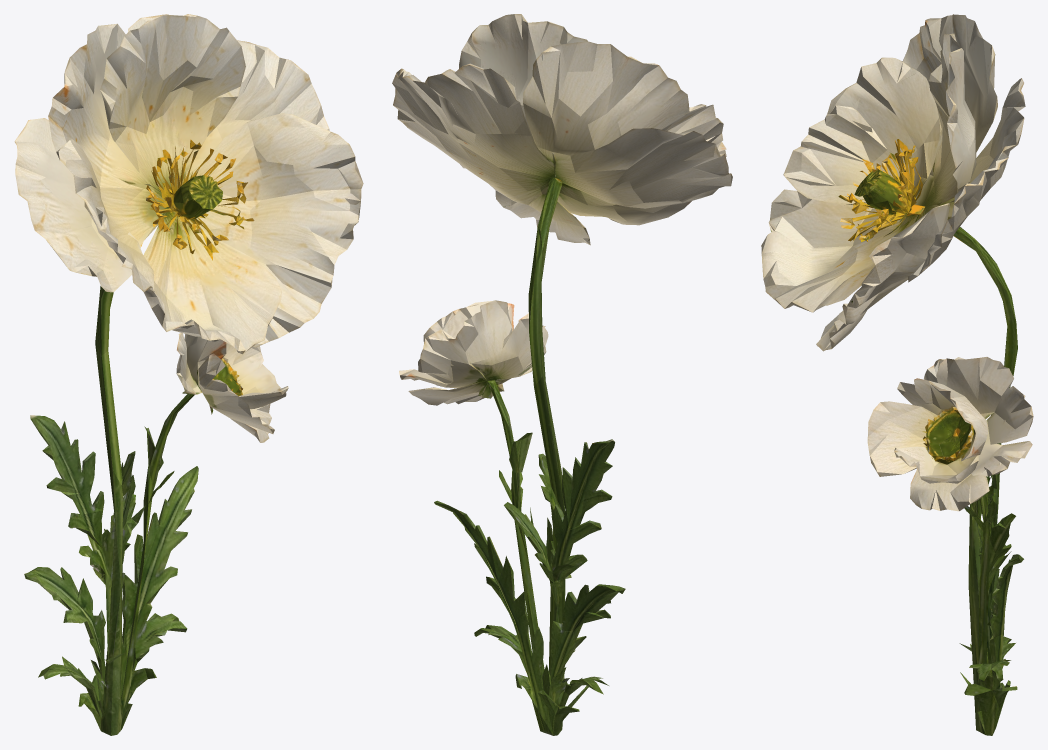
Rendered from poppy2.glb.
The picture shows the model from 3 angles, left to right: view 1: azimuth 30°, elevation 25°; view 2: azimuth 150°, elevation 25°; view 3: azimuth 270°, elevation 25°; orthographic projection. The views are drawn at different scales.
Parts seen in each view (by area): view 1: THREEJS_EXPORT_TEMP; view 2: THREEJS_EXPORT_TEMP; view 3: THREEJS_EXPORT_TEMP.
Boxes of the visible parts, bbox=[...] form: THREEJS_EXPORT_TEMP: bbox=[14, 14, 363, 735]; THREEJS_EXPORT_TEMP: bbox=[392, 14, 732, 735]; THREEJS_EXPORT_TEMP: bbox=[761, 14, 1033, 735].
Bounding box in the file's own units: 0.8967 × 1.9 × 0.6664.
Materials: 1 (1 with a texture image).
